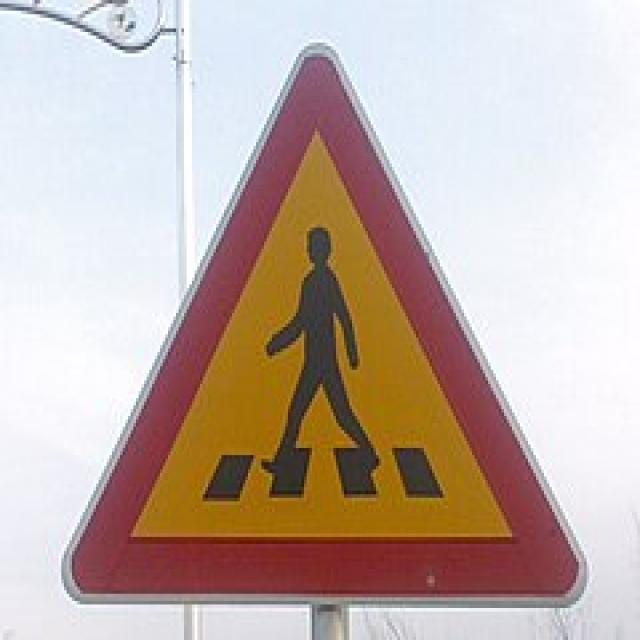Pedestrian crosswalk: (59, 41, 594, 614)
